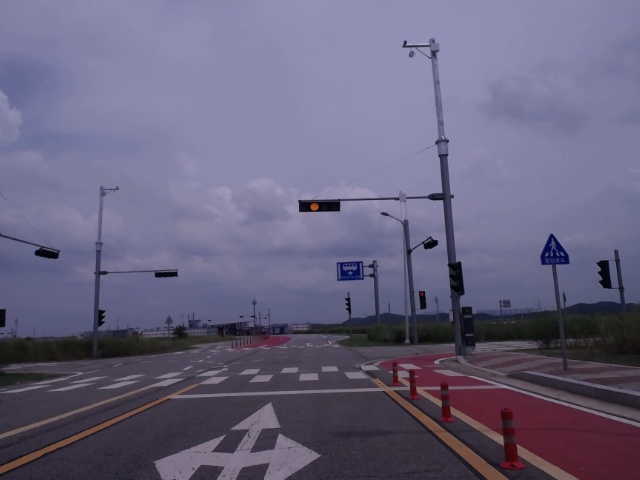orange_4: (296, 199, 342, 212)
